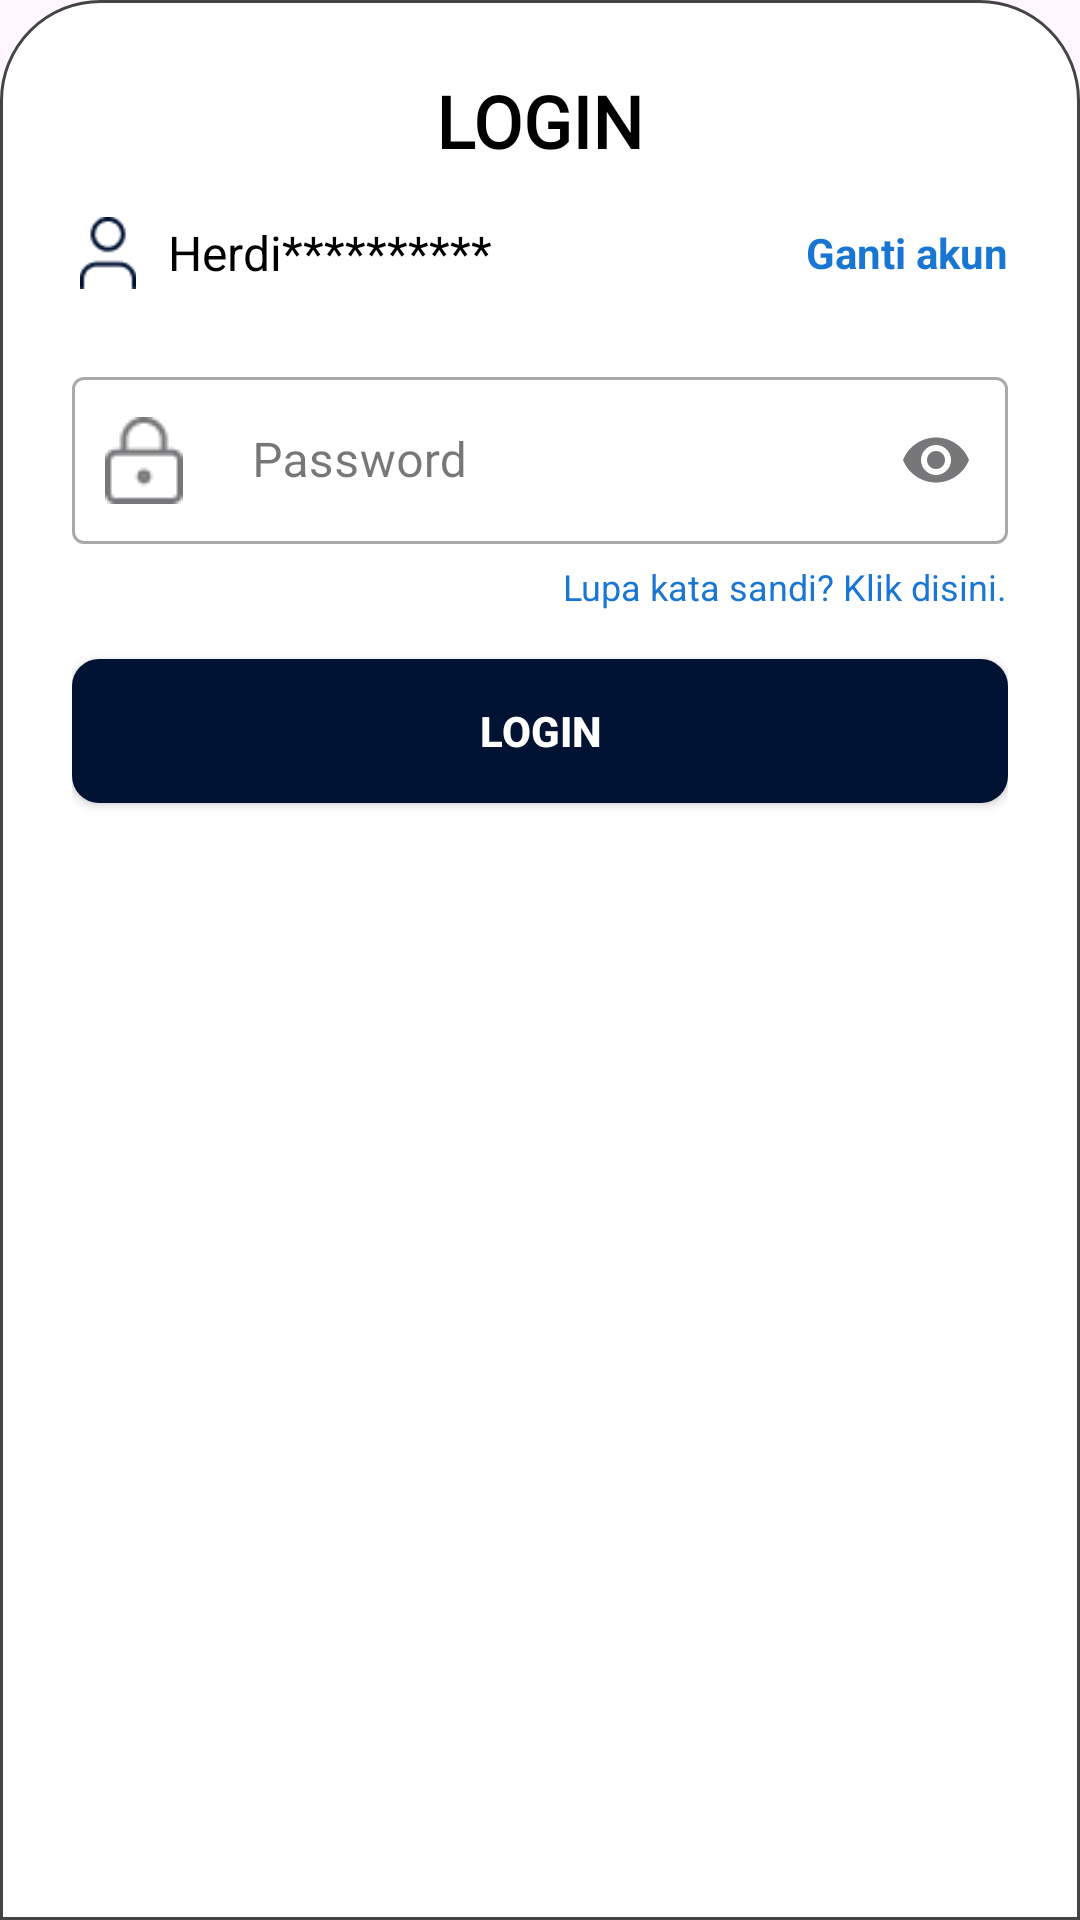

Where icons sit on this 1080 × 1920 app screen, as (x1, y1, x2, y2):
usename: (80, 217, 136, 289)
